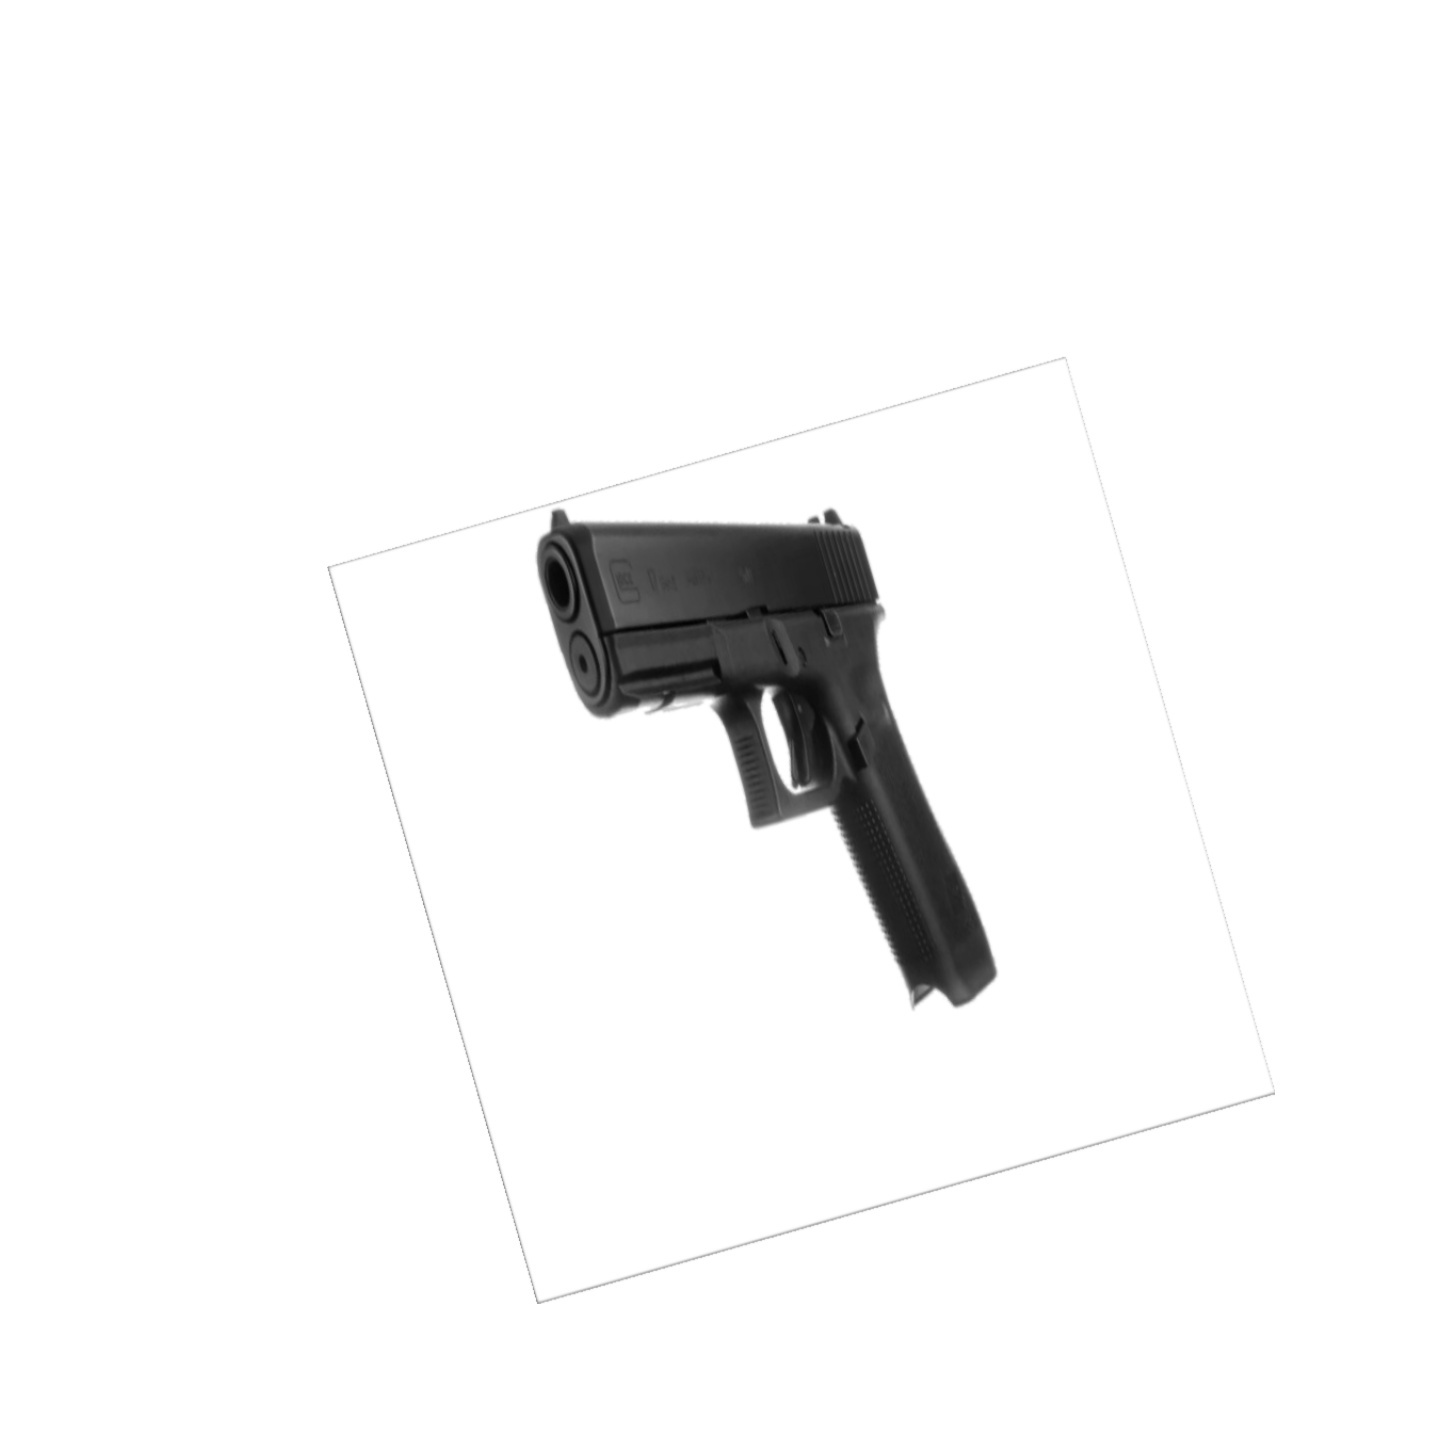gun: (514, 499, 1003, 1021)
